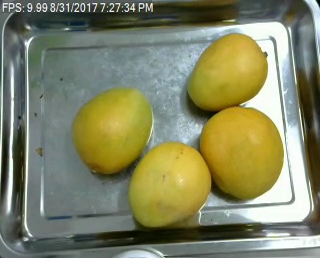Mango: (201, 102, 285, 199), (125, 141, 215, 226), (69, 89, 154, 177), (189, 33, 269, 108)
